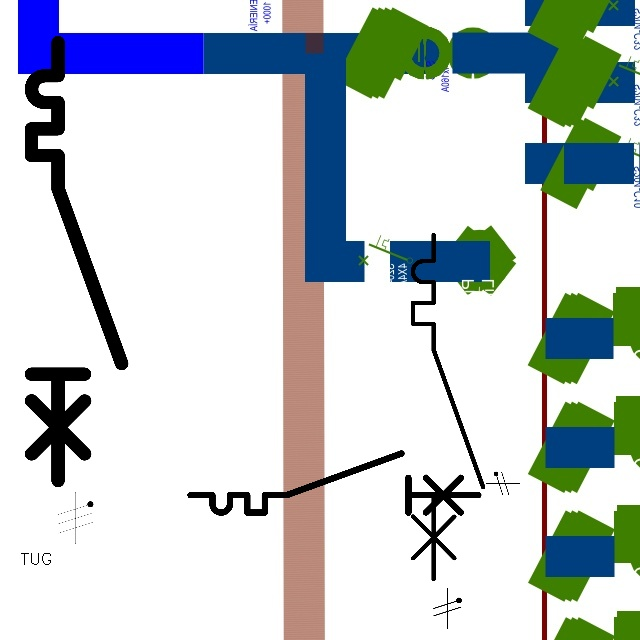interruptor_termomagnetico: (20, 31, 133, 492), (404, 226, 492, 588), (183, 446, 485, 520)
